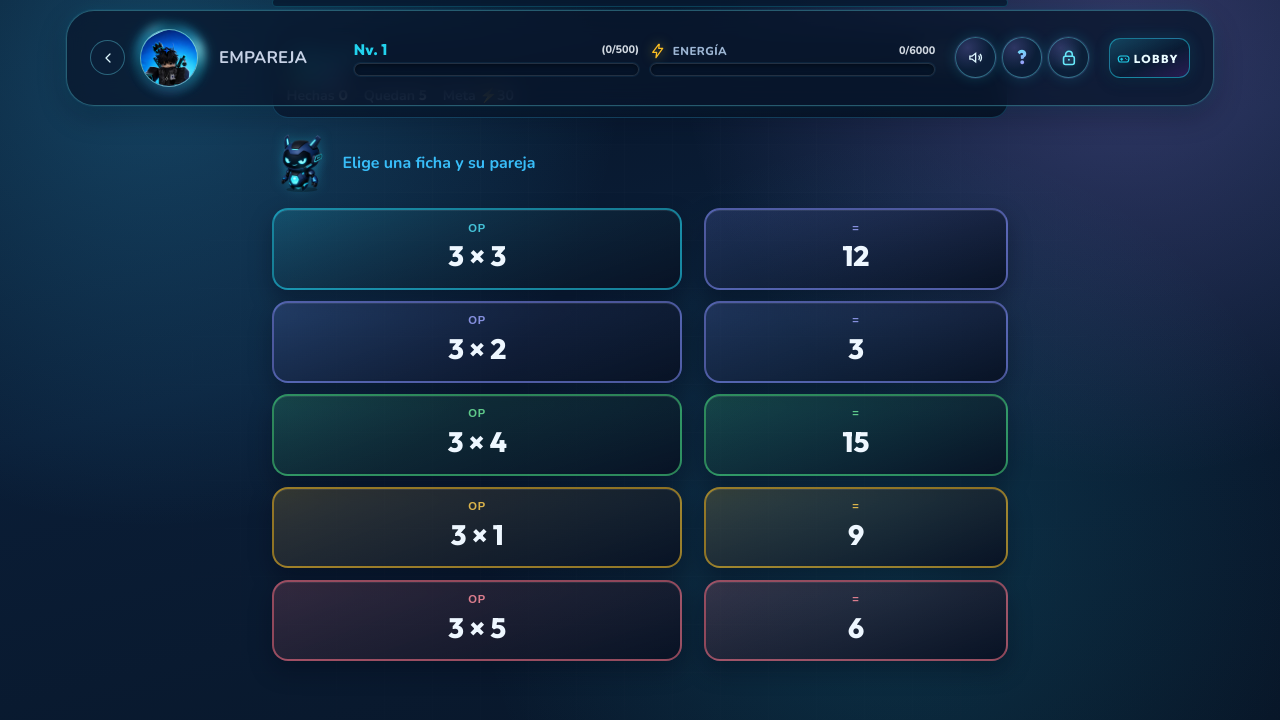
Test: Empareja la tabla — pantalla › valida y fija de inmediato una pareja correcta
(page scrolled)
Step 1. Click the button named "resultado 9" → (856, 528), box [704,487,1008,568]
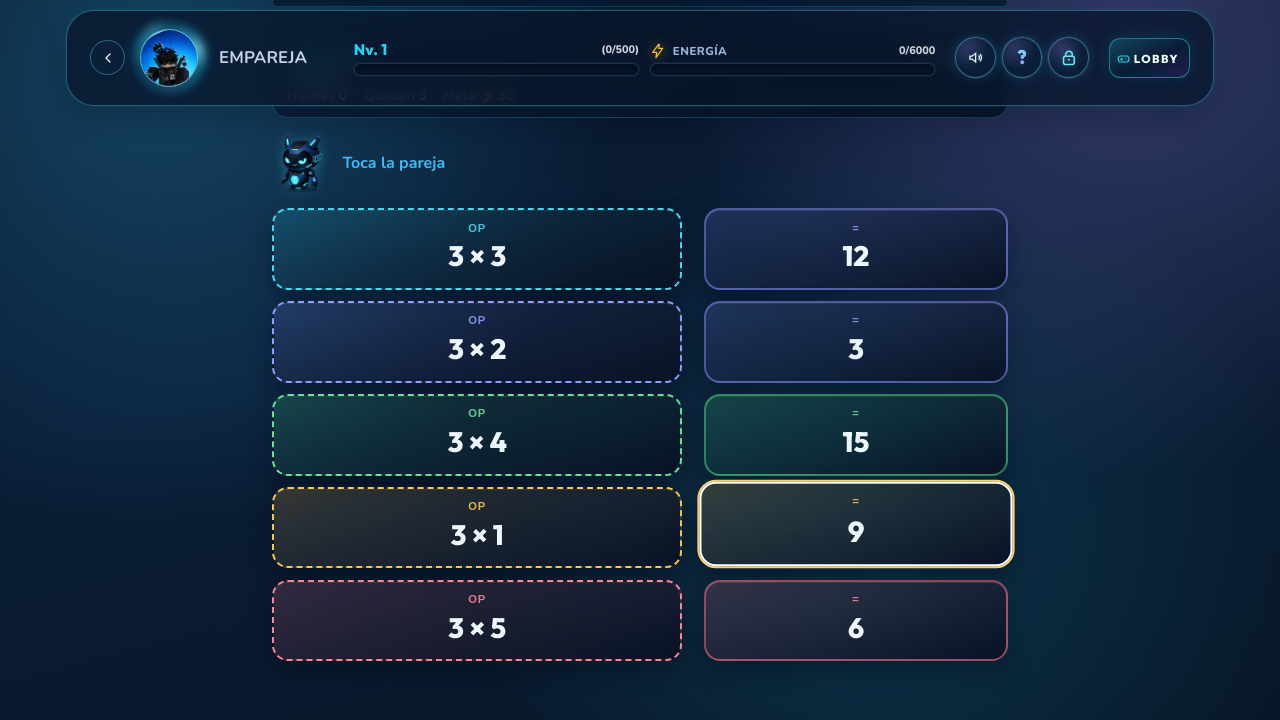
Step 2. Click the button "Op 3 × 3" → (477, 249), box [272,208,682,290]
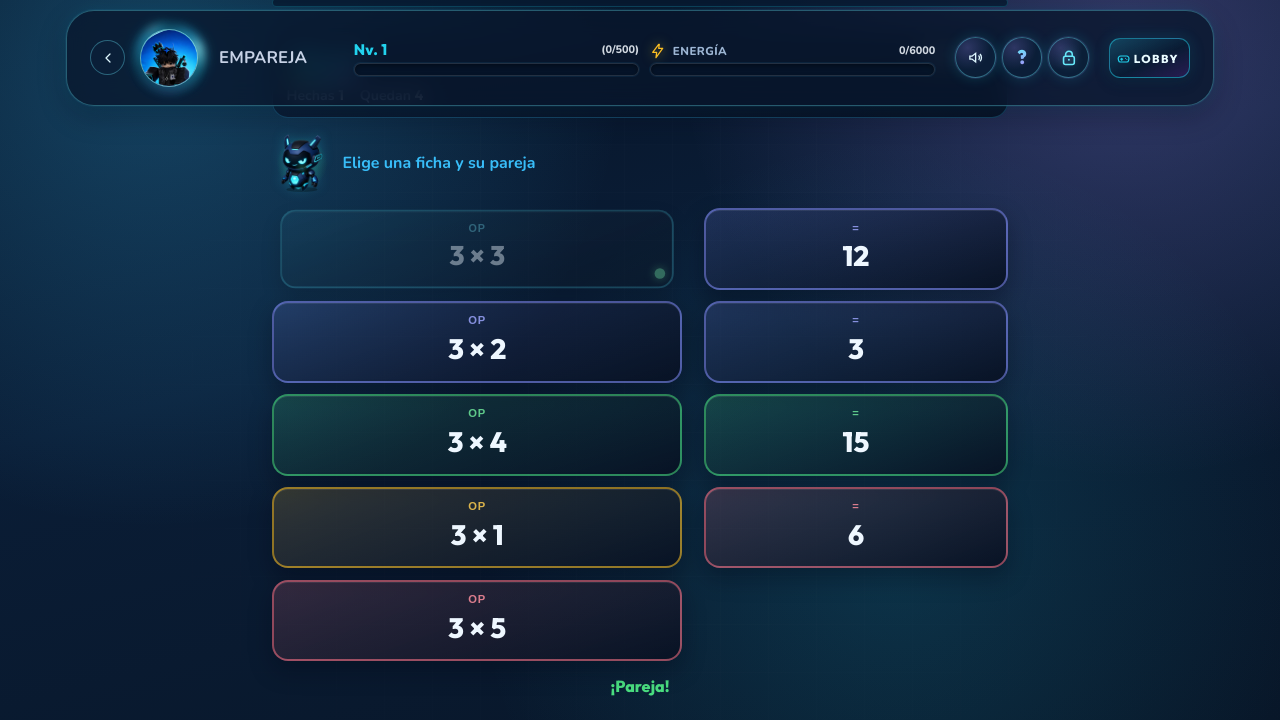
Expected: the text "Hechas 1" is shown, [287,86,344,105]
Result: the button with aria-label "3 × 3 = 9, resuelta" is disabled at [280,210,674,288]
Result: the text "¡Pareja!" is shown at [610,676,670,696]
